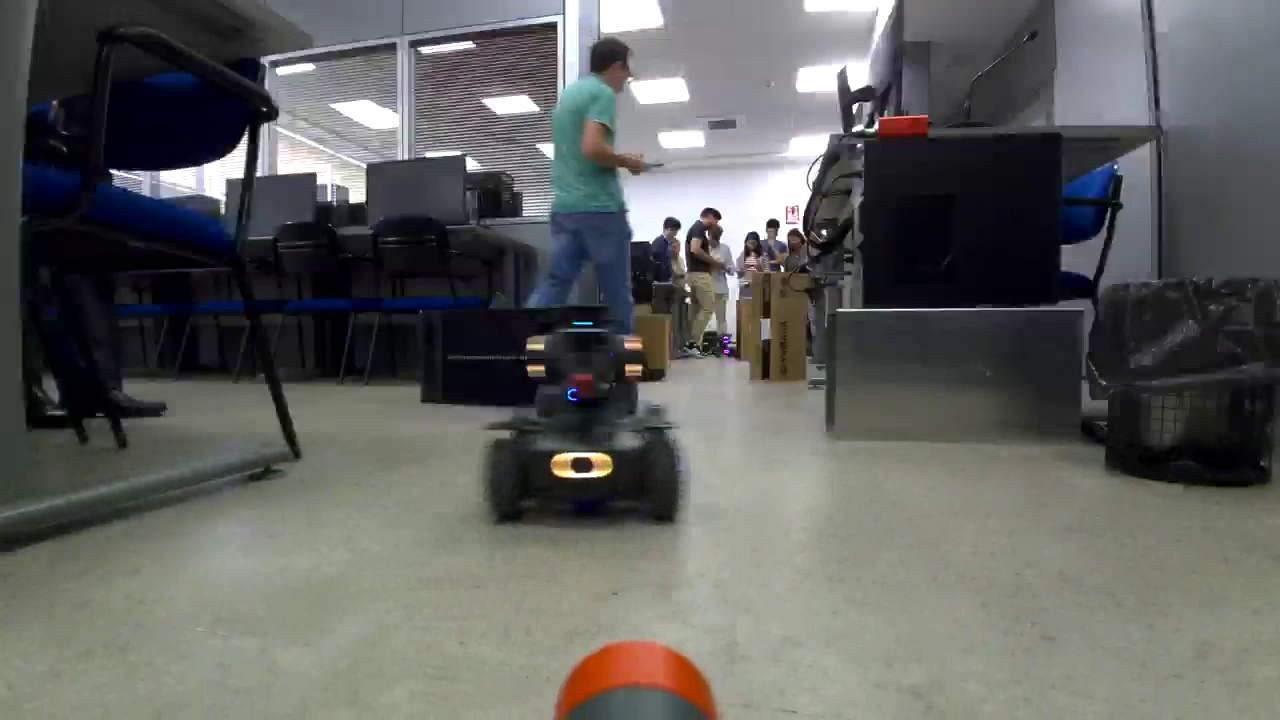robot: (489, 321, 679, 517), (716, 339, 731, 352)
